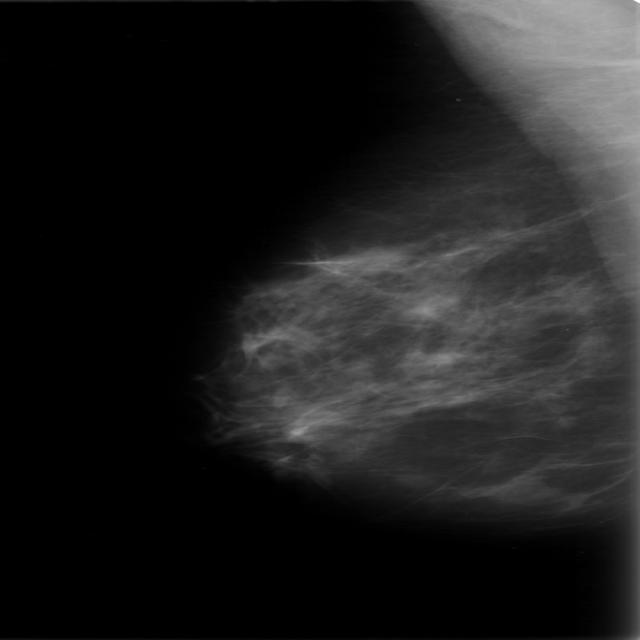tumour: (486, 476, 585, 509)
